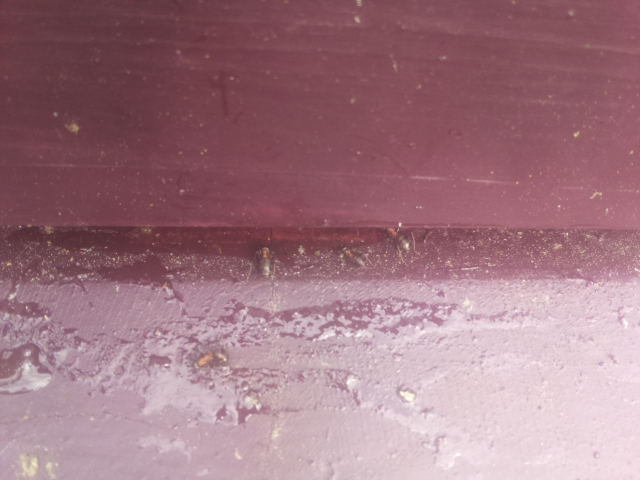ant: (381, 218, 418, 261), (253, 239, 277, 285)
